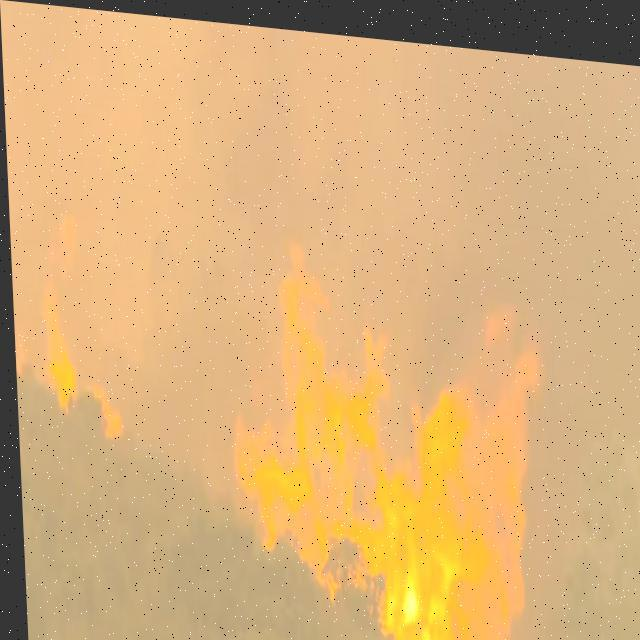Fire: (215, 218, 548, 639), (35, 272, 122, 444)
